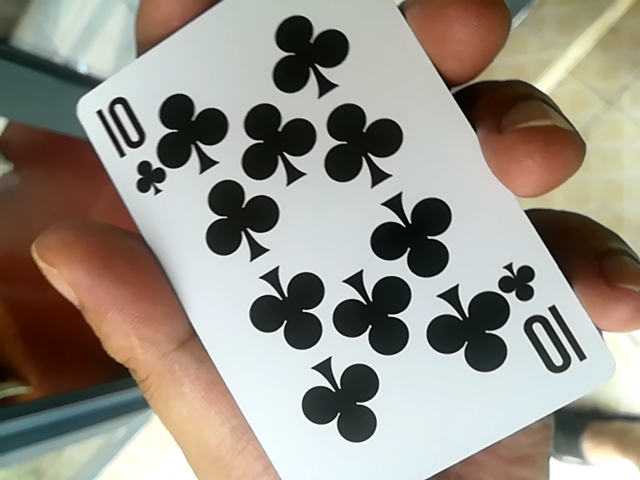mh 10: (66, 8, 611, 474)
